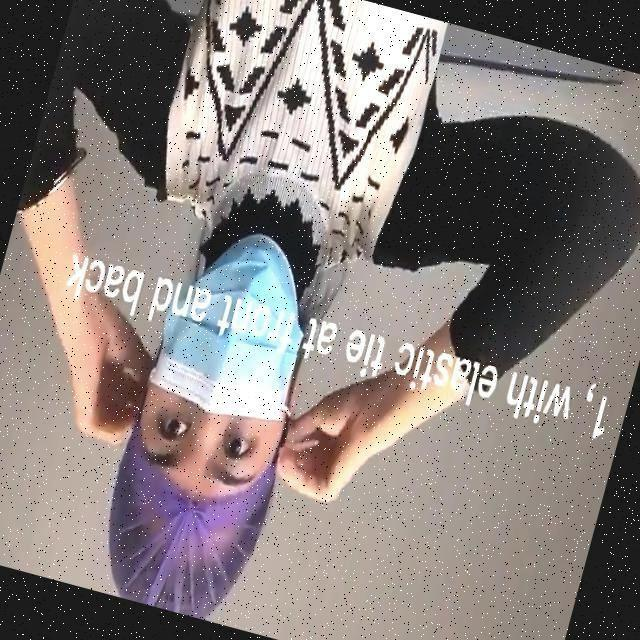gloves: (83, 493, 250, 618)
mask: (170, 242, 294, 422)
no_apron: (278, 396, 392, 504), (72, 326, 148, 446)
